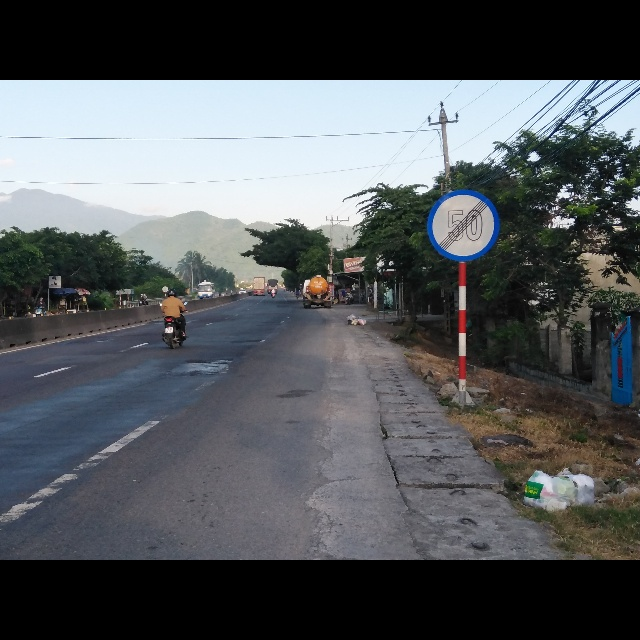Hết hạn chế tốc độ tối đa 50km/h: (425, 189, 500, 262)
